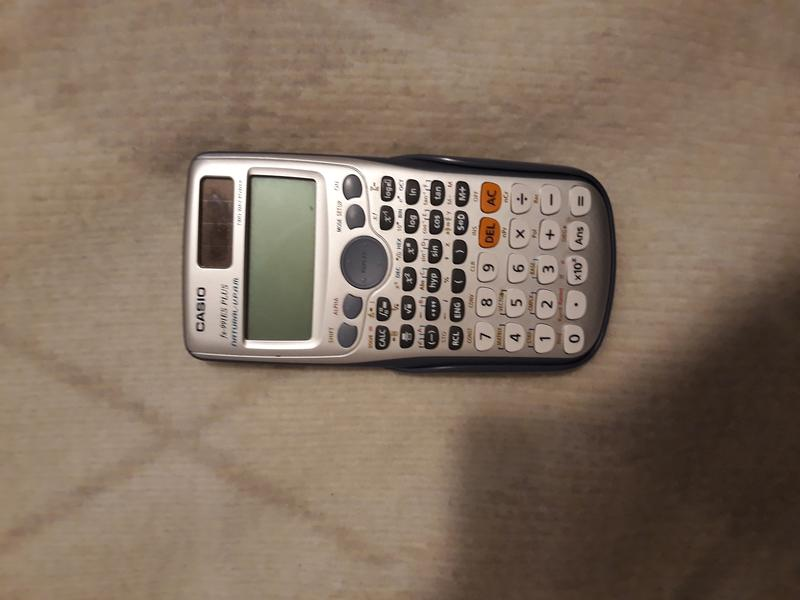CASIO_fx_991ES_PLUS: (171, 148, 621, 388)
